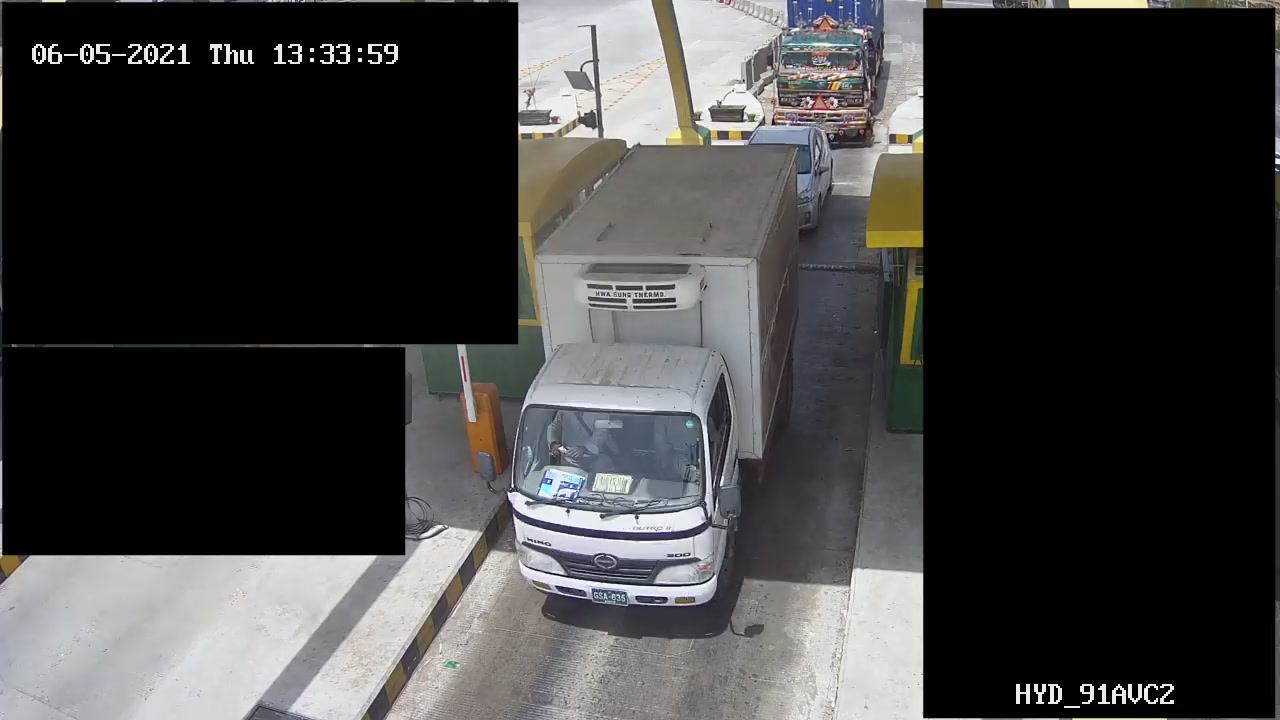F5: (503, 132, 798, 623)
